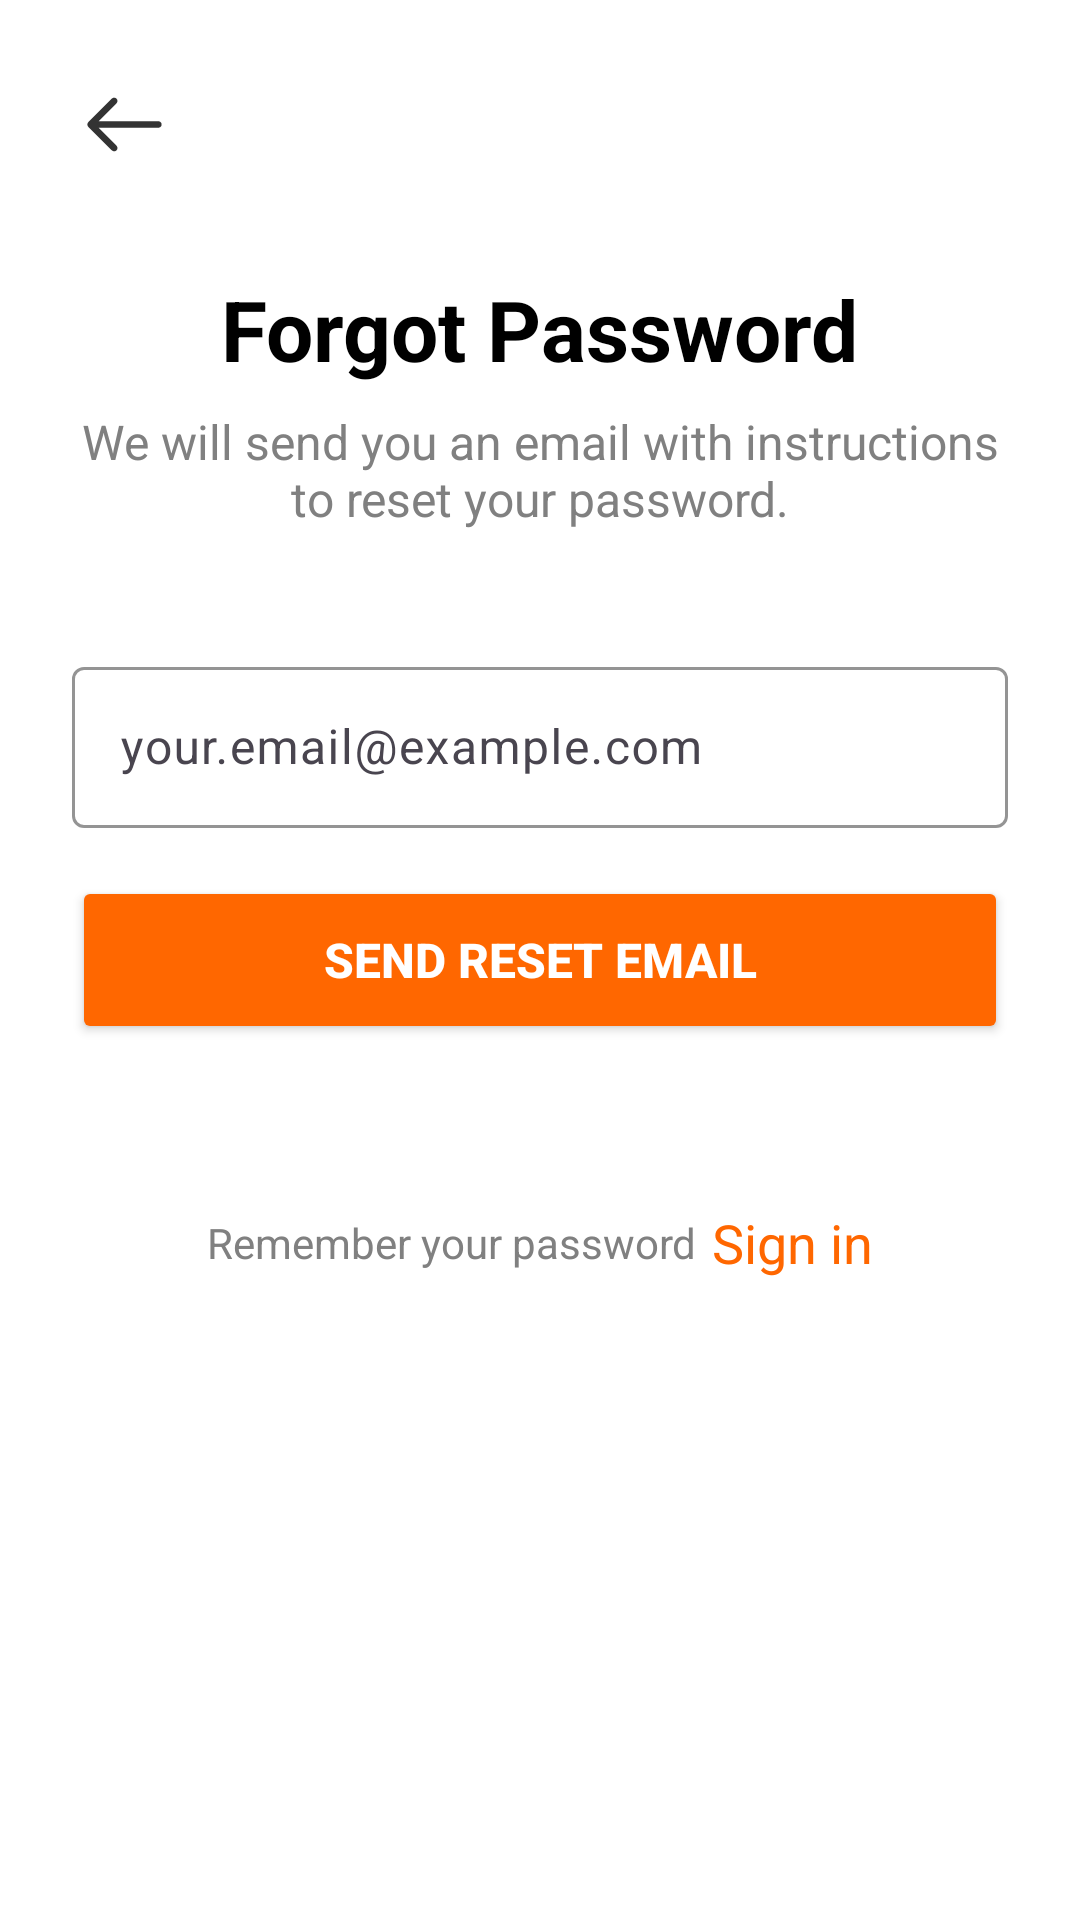

Locate icon controls on the screen. Image size 1080 × 1920, boxes as (x1, y1, x2, y2).
arrow back: (87, 97, 162, 152)
